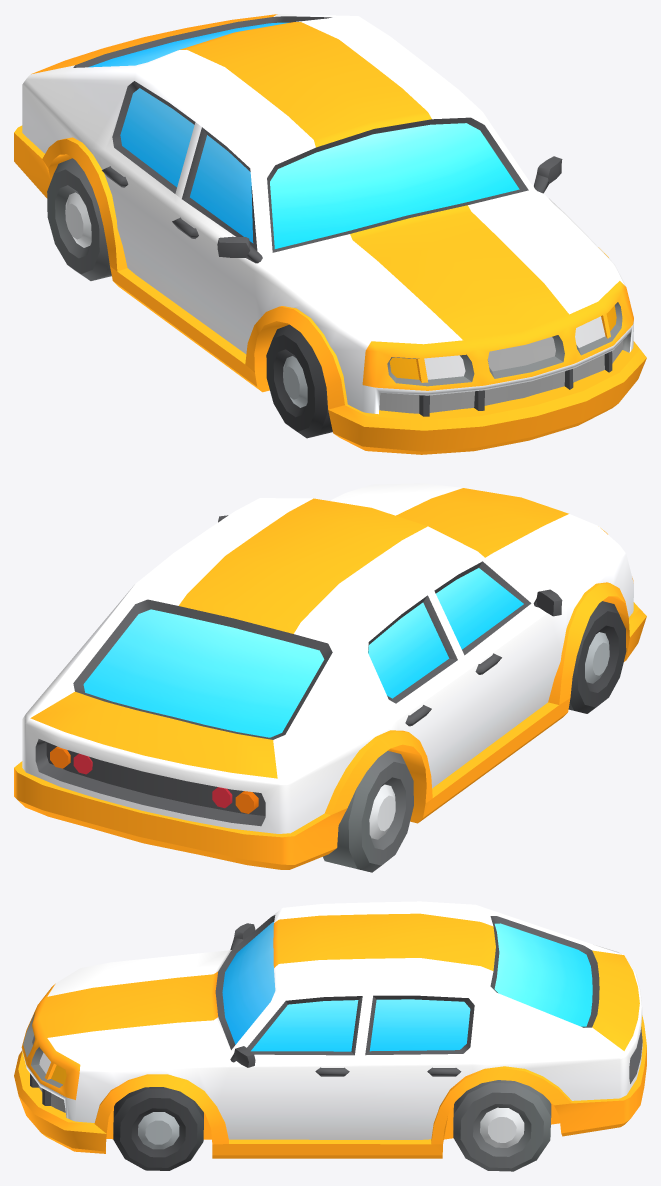
The model's file is city2-car-36.glb.
3 views of the same model, one above another, from view 1: azimuth 30°, elevation 25°; view 2: azimuth 150°, elevation 25°; view 3: azimuth 270°, elevation 25° (orthographic). The views are drawn at different scales.
Parts seen in each view (by area): view 1: Car_1.010, Wheel_082, Wheel_081; view 2: Car_1.010, Wheel_082, Wheel_081; view 3: Car_1.010, Wheel_084, Wheel_083.
Boxes of the visible parts, bbox=[...] form: Car_1.010: bbox=[14, 14, 646, 454]; Wheel_082: bbox=[47, 158, 111, 280]; Wheel_081: bbox=[266, 324, 332, 438]; Car_1.010: bbox=[14, 483, 646, 869]; Wheel_082: bbox=[323, 751, 413, 872]; Wheel_081: bbox=[568, 601, 626, 713]; Car_1.010: bbox=[14, 901, 646, 1158]; Wheel_084: bbox=[453, 1080, 551, 1171]; Wheel_083: bbox=[113, 1087, 203, 1170].
Size of the model in its own units: 2.41 by 1.52 by 4.83.
2 materials, 2 textured.
